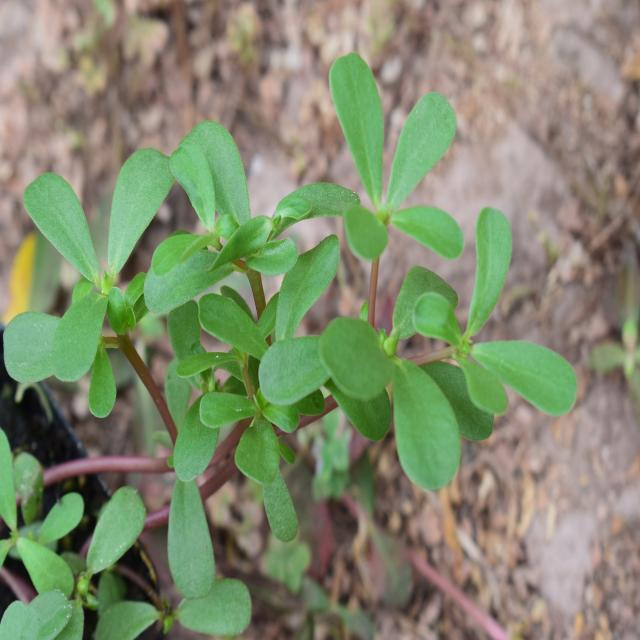purslane: (14, 48, 594, 612)
